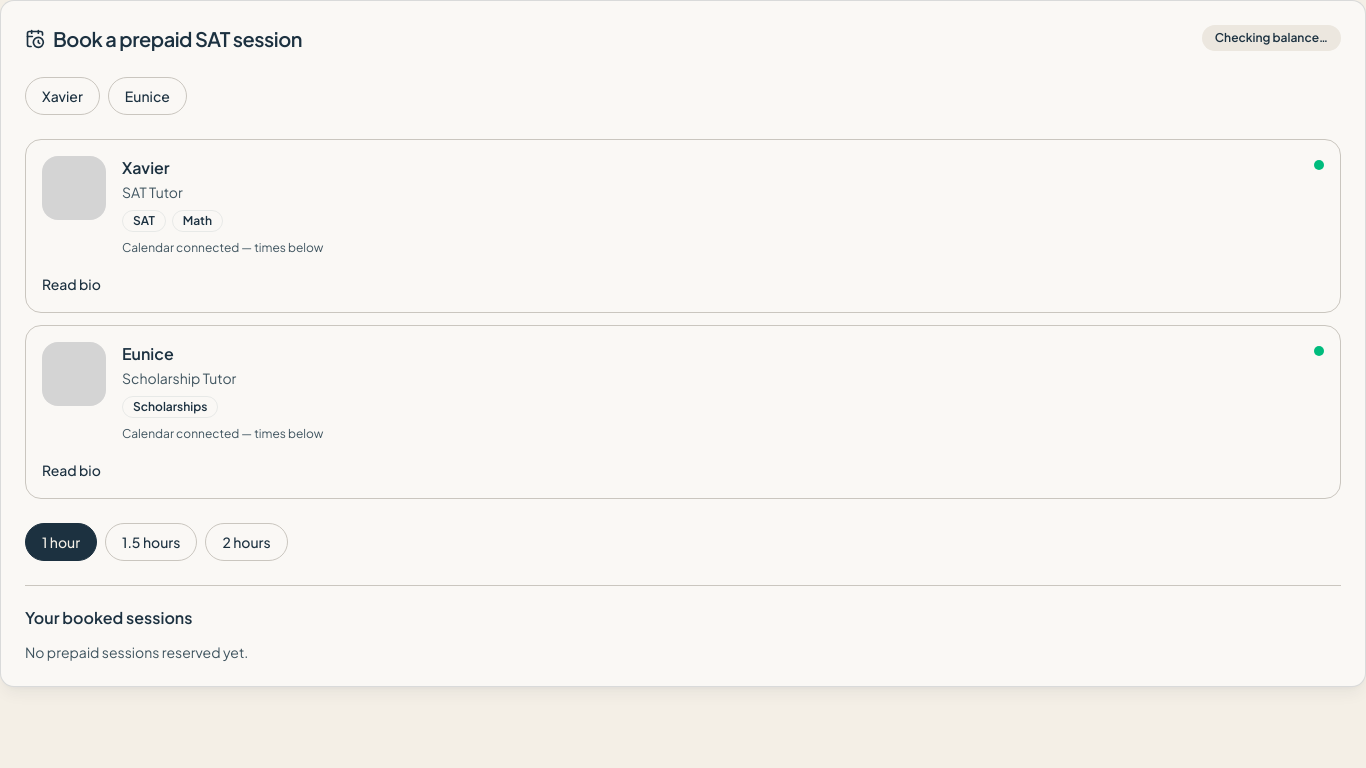
Test case: client availability calendar › shows tutor biography and switches calendars between tutors
Expected: the text "Xavier helps students strengthen SAT reasoning." is not shown
Click the button with test id "booking-tutor-bio-tutor-xavier" at {"x": 71, "y": 284}, box [42,274,101,294]
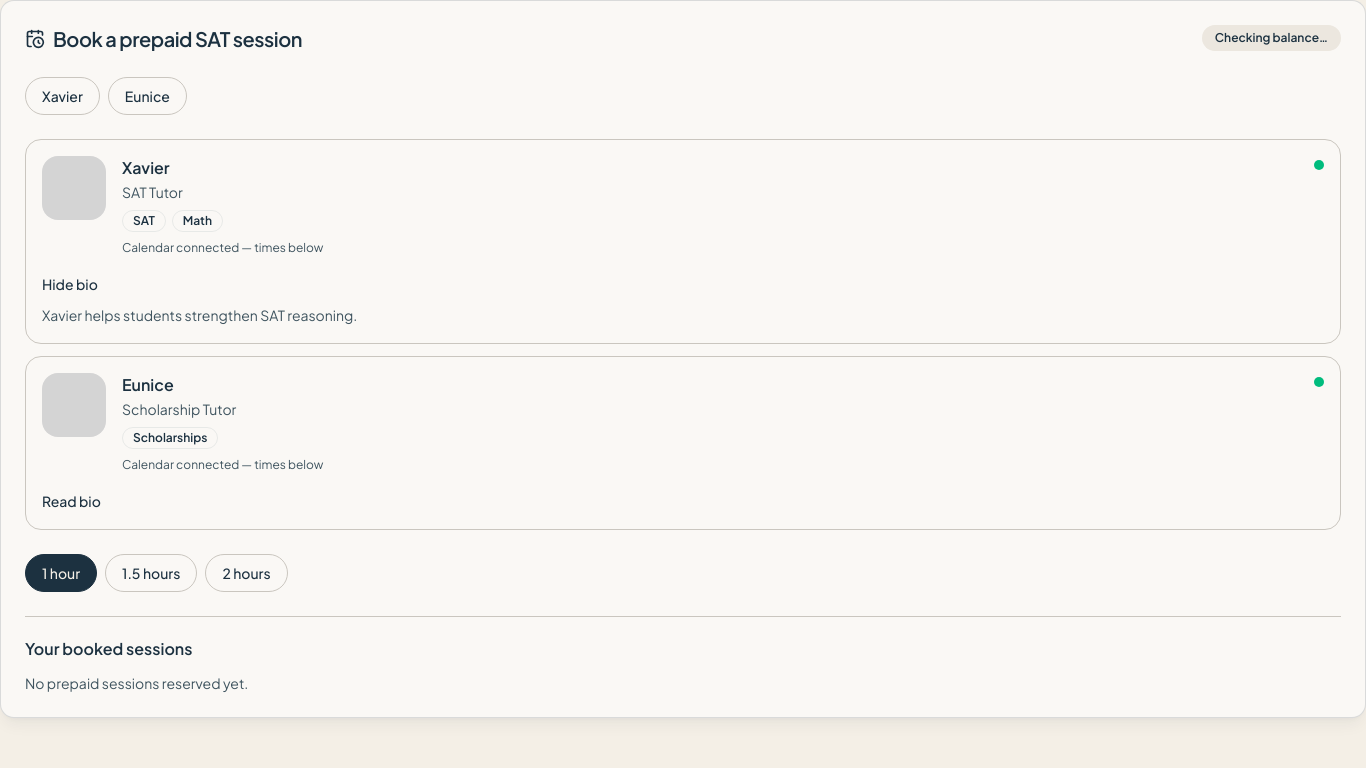
Expected: the text "Eunice coaches scholarship and admissions work." is not shown
Expected: the text "Xavier helps students strengthen SAT reasoning." is shown, [42,306,357,324]
Click the button with test id "booking-tutor-bio-tutor-eunice" at {"x": 71, "y": 501}, box [42,491,101,511]
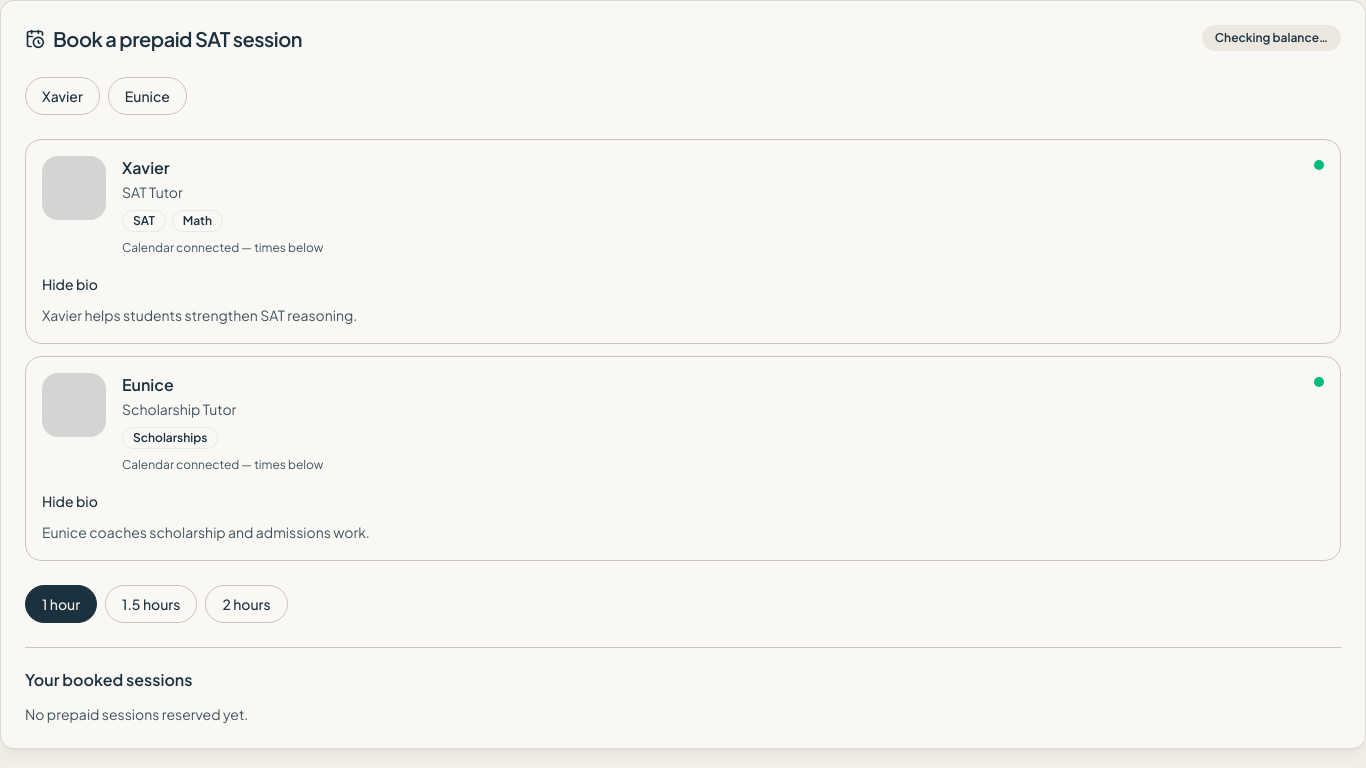
Expected: the text "Eunice coaches scholarship and admissions work." is shown, [42,523,370,541]
Click the tab "Eunice" at {"x": 147, "y": 96}, box [108,77,187,115]
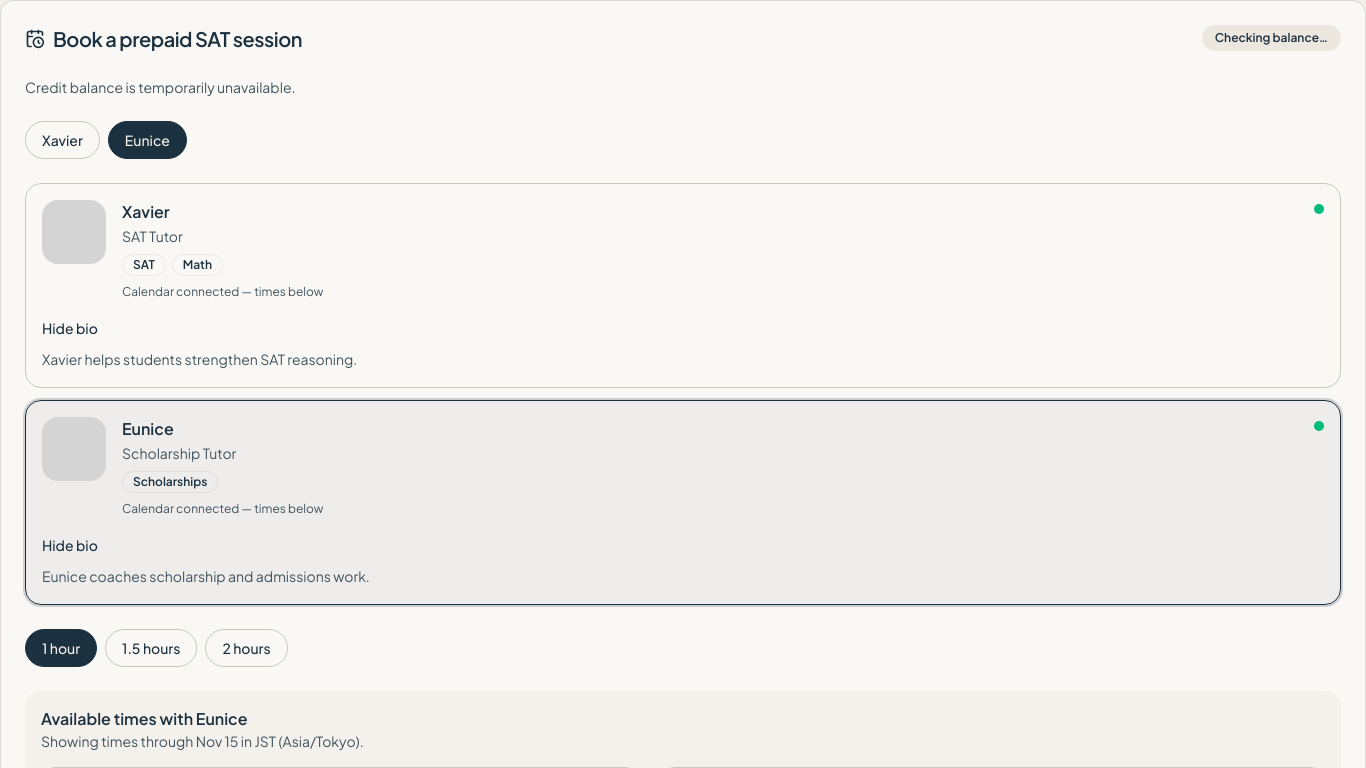
Expected: the text "Available times with Eunice" is shown, [41,708,248,728]
